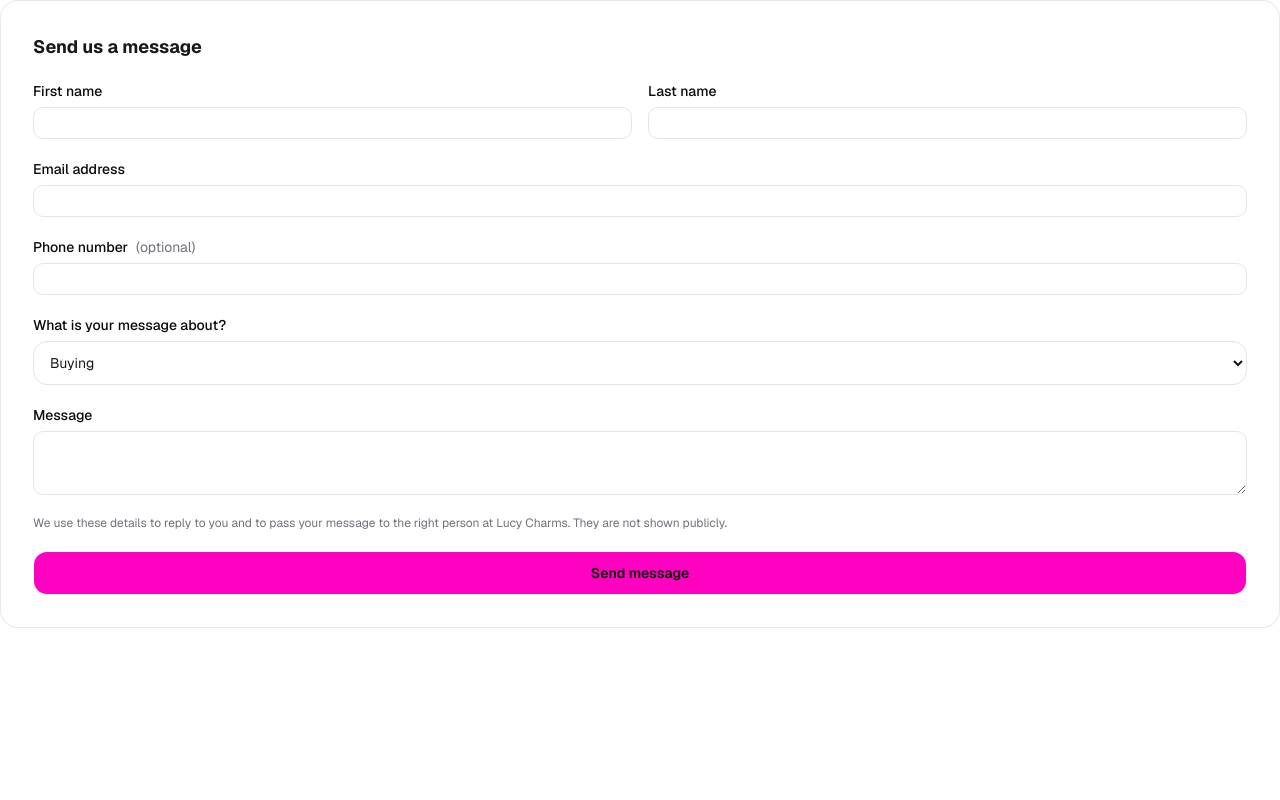
Scenario: shows the reference returned by the API on success
This screenshot has width=1280, height=800.
Type "Dana" into the field labelled "First name".
click(332, 123); type("Dana")  # box x1=33 y1=107 x2=632 y2=139
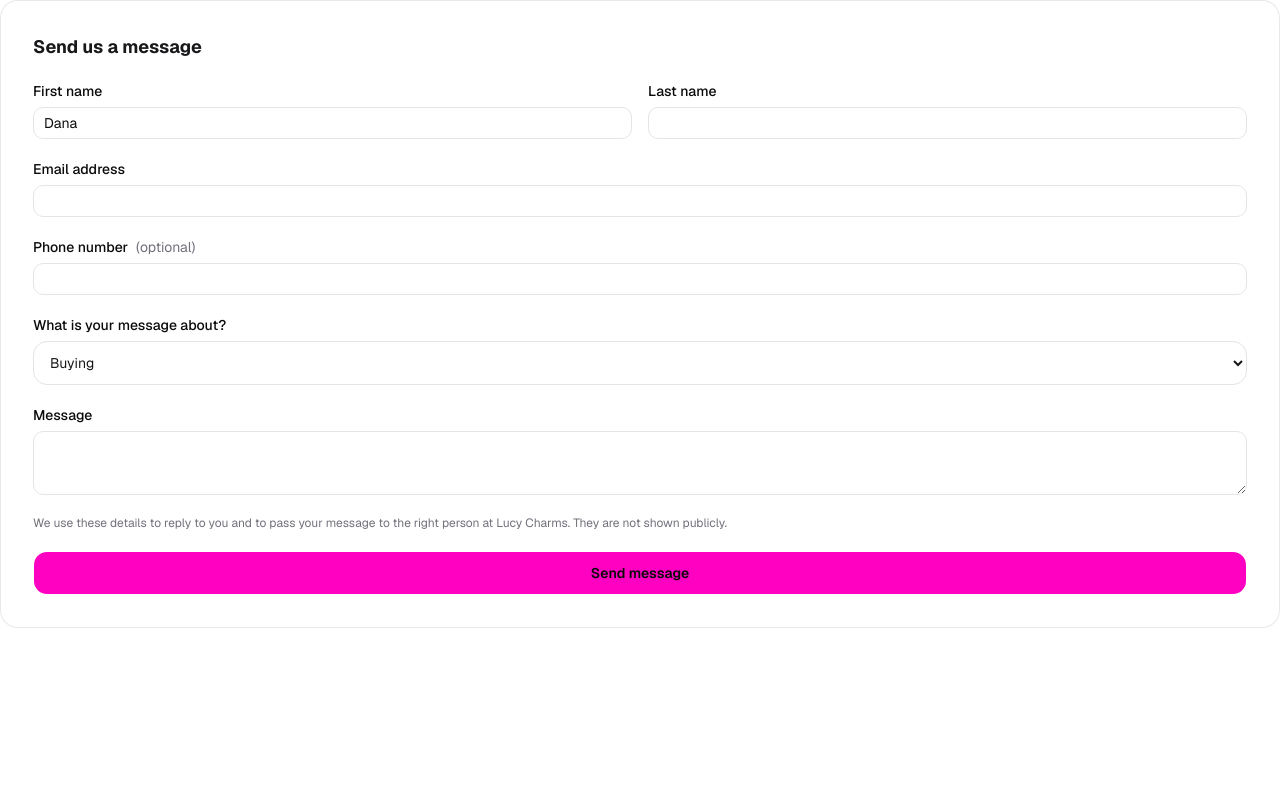
Type "Okafor" into the field labelled "Last name".
click(948, 123); type("Okafor")  # box x1=648 y1=107 x2=1247 y2=139
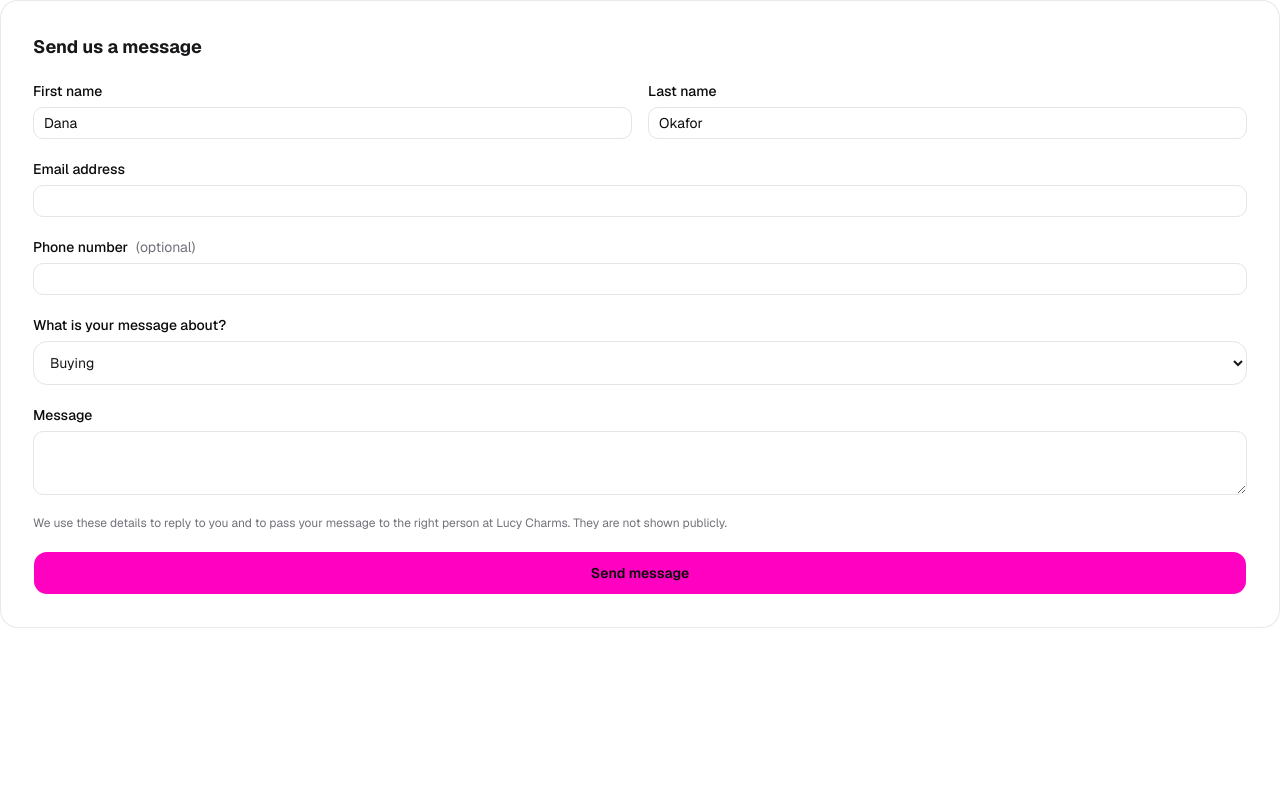
Type "dana.okafor@example.com" into the field labelled "Email address".
click(640, 201); type("dana.okafor@example.com")  # box x1=33 y1=185 x2=1247 y2=217
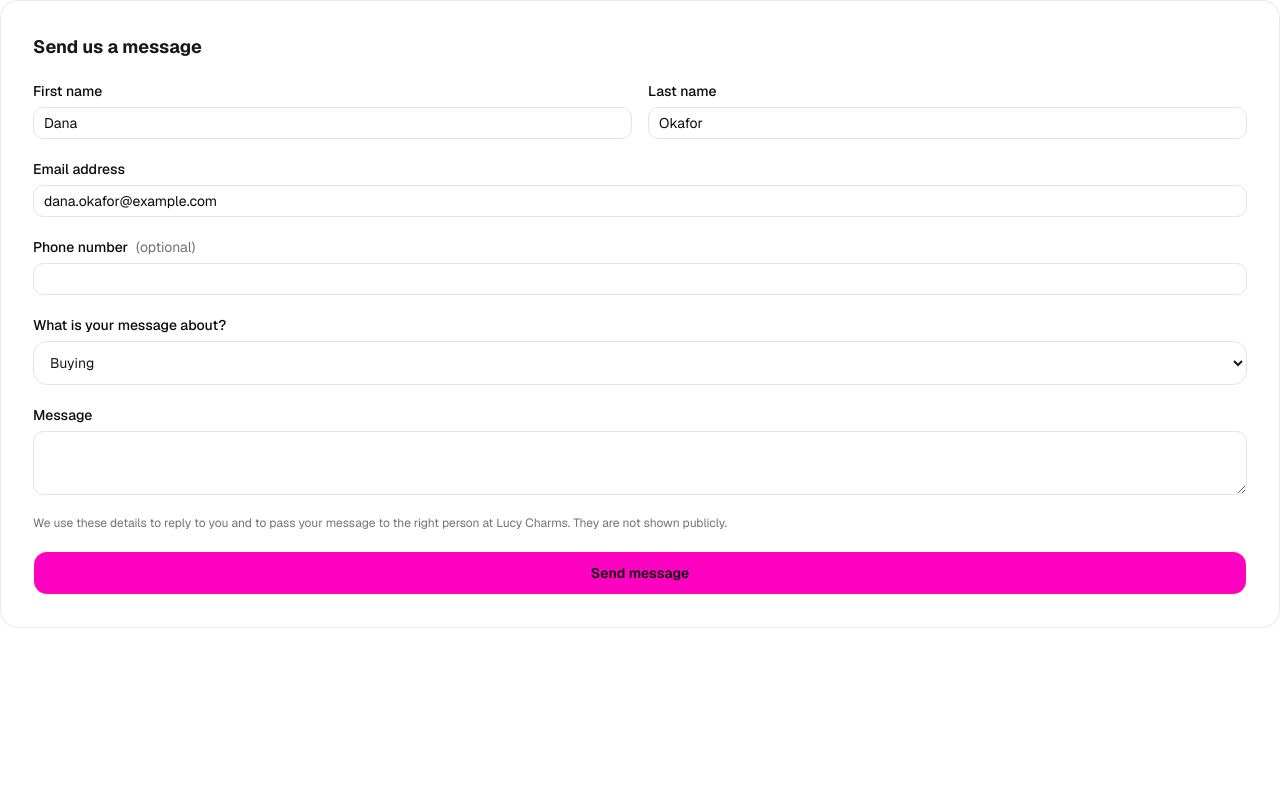
Type "I would like to know more about buying in Ottawa." into the text box labelled "Message".
click(640, 463); type("I would like to know more about buying in Ottawa.")  # box x1=33 y1=431 x2=1247 y2=495
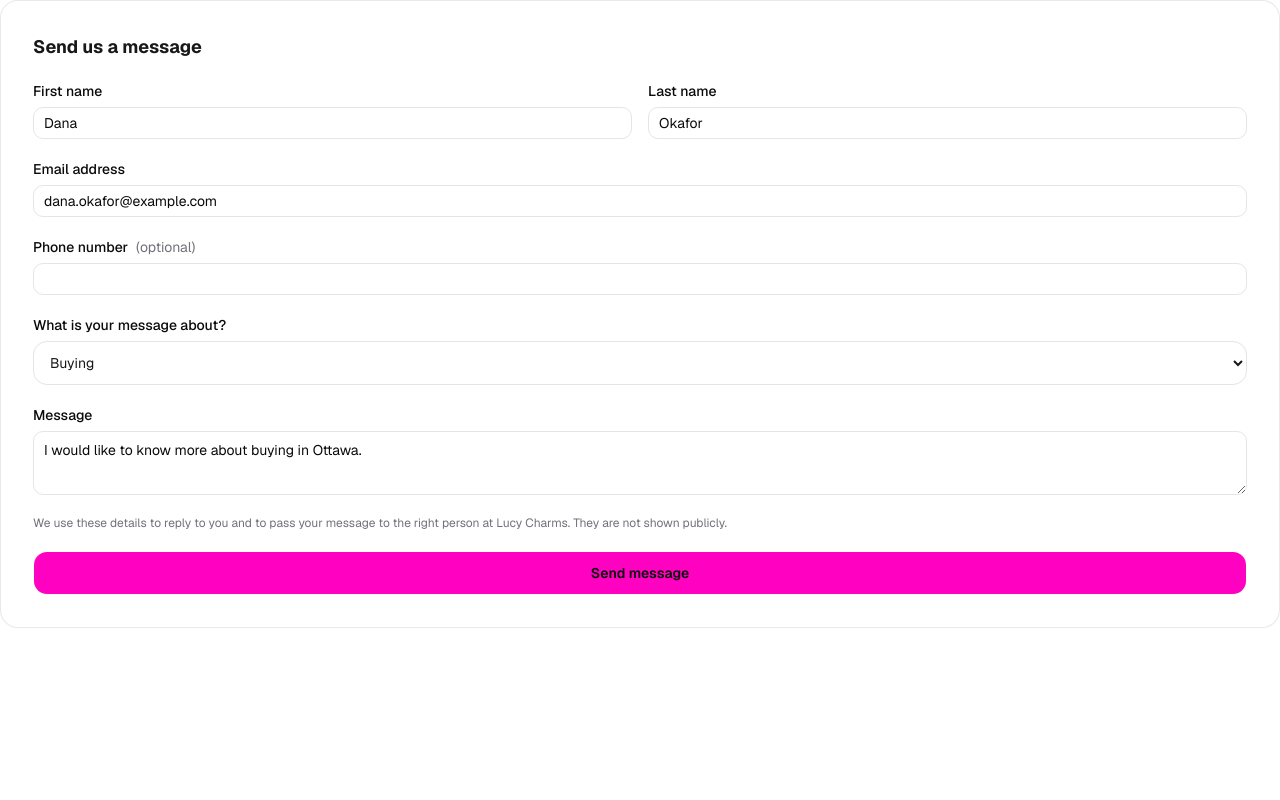
Click the button "Send message".
click(640, 573)  # box x1=33 y1=551 x2=1247 y2=595
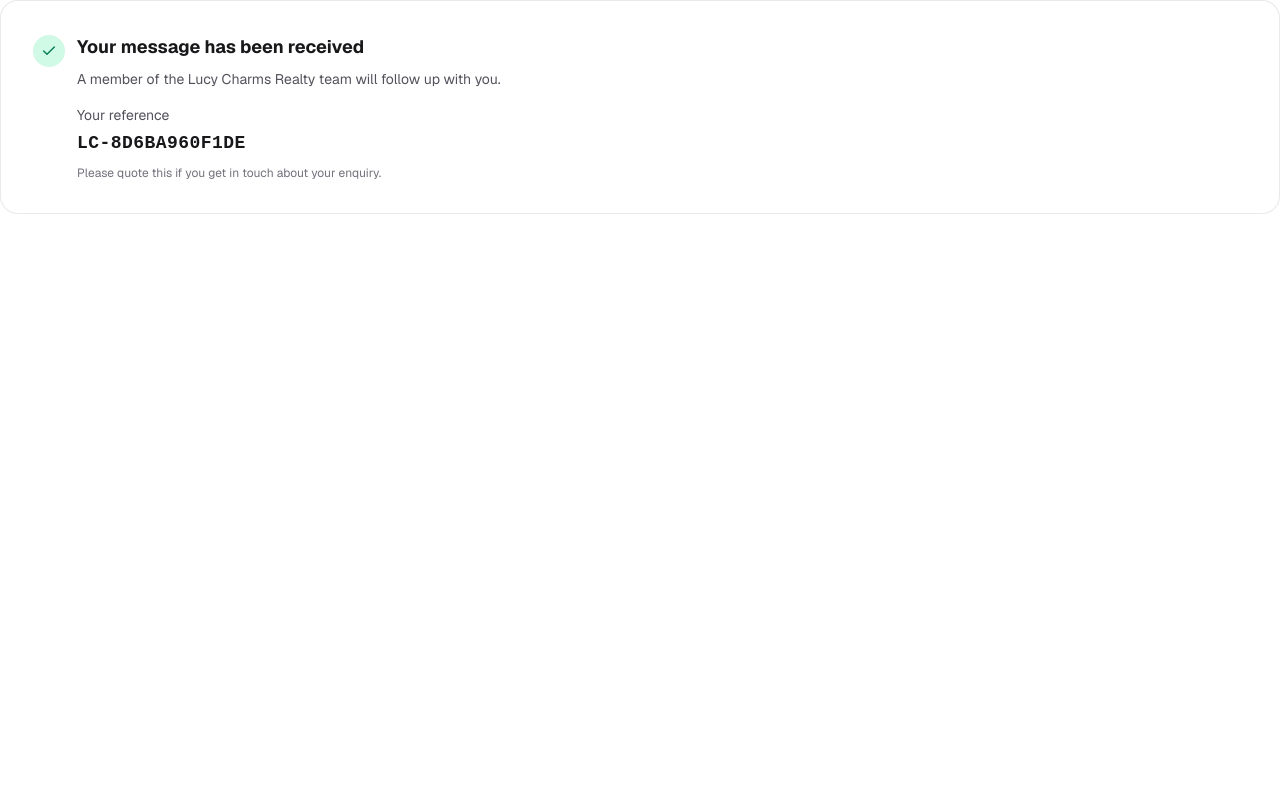
Result: the heading "Your message has been received" is shown at x1=77 y1=35 x2=364 y2=58
Result: the text "LC-8D6BA960F1DE" is shown at x1=77 y1=133 x2=246 y2=153
Result: the text "Please quote this if you get in touch about your enquiry." is shown at x1=77 y1=165 x2=381 y2=181
